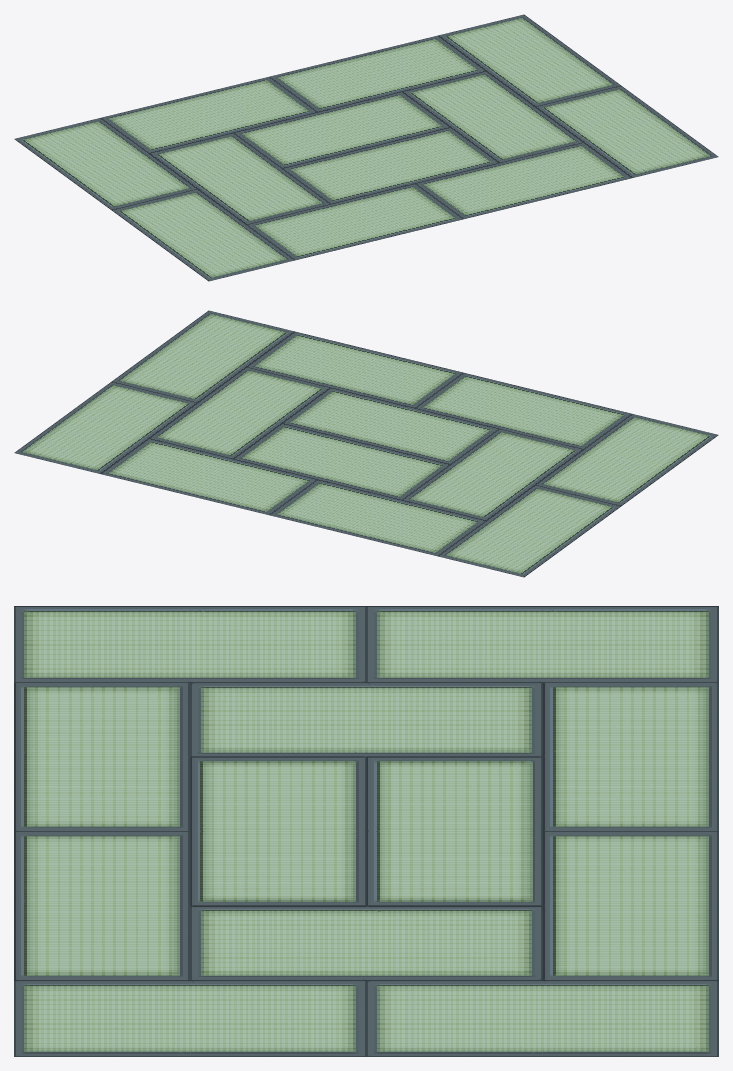
The model's file is tatami_12jyo_01.fbx.
3 views of the same model, one above another, from view 1: azimuth 30°, elevation 25°; view 2: azimuth 150°, elevation 25°; view 3: azimuth 270°, elevation 25° (orthographic). The views are drawn at different scales.
Visible parts, largest first — view 1: tatami_12jyo_01; view 2: tatami_12jyo_01; view 3: tatami_12jyo_01.
Part boxes in pixels (x1,y1,x2,y2): tatami_12jyo_01: (14,14,718,281); tatami_12jyo_01: (14,310,718,577); tatami_12jyo_01: (14,606,718,1056).
Bounding box in the file's own units: 1180 × 0 × 780.
